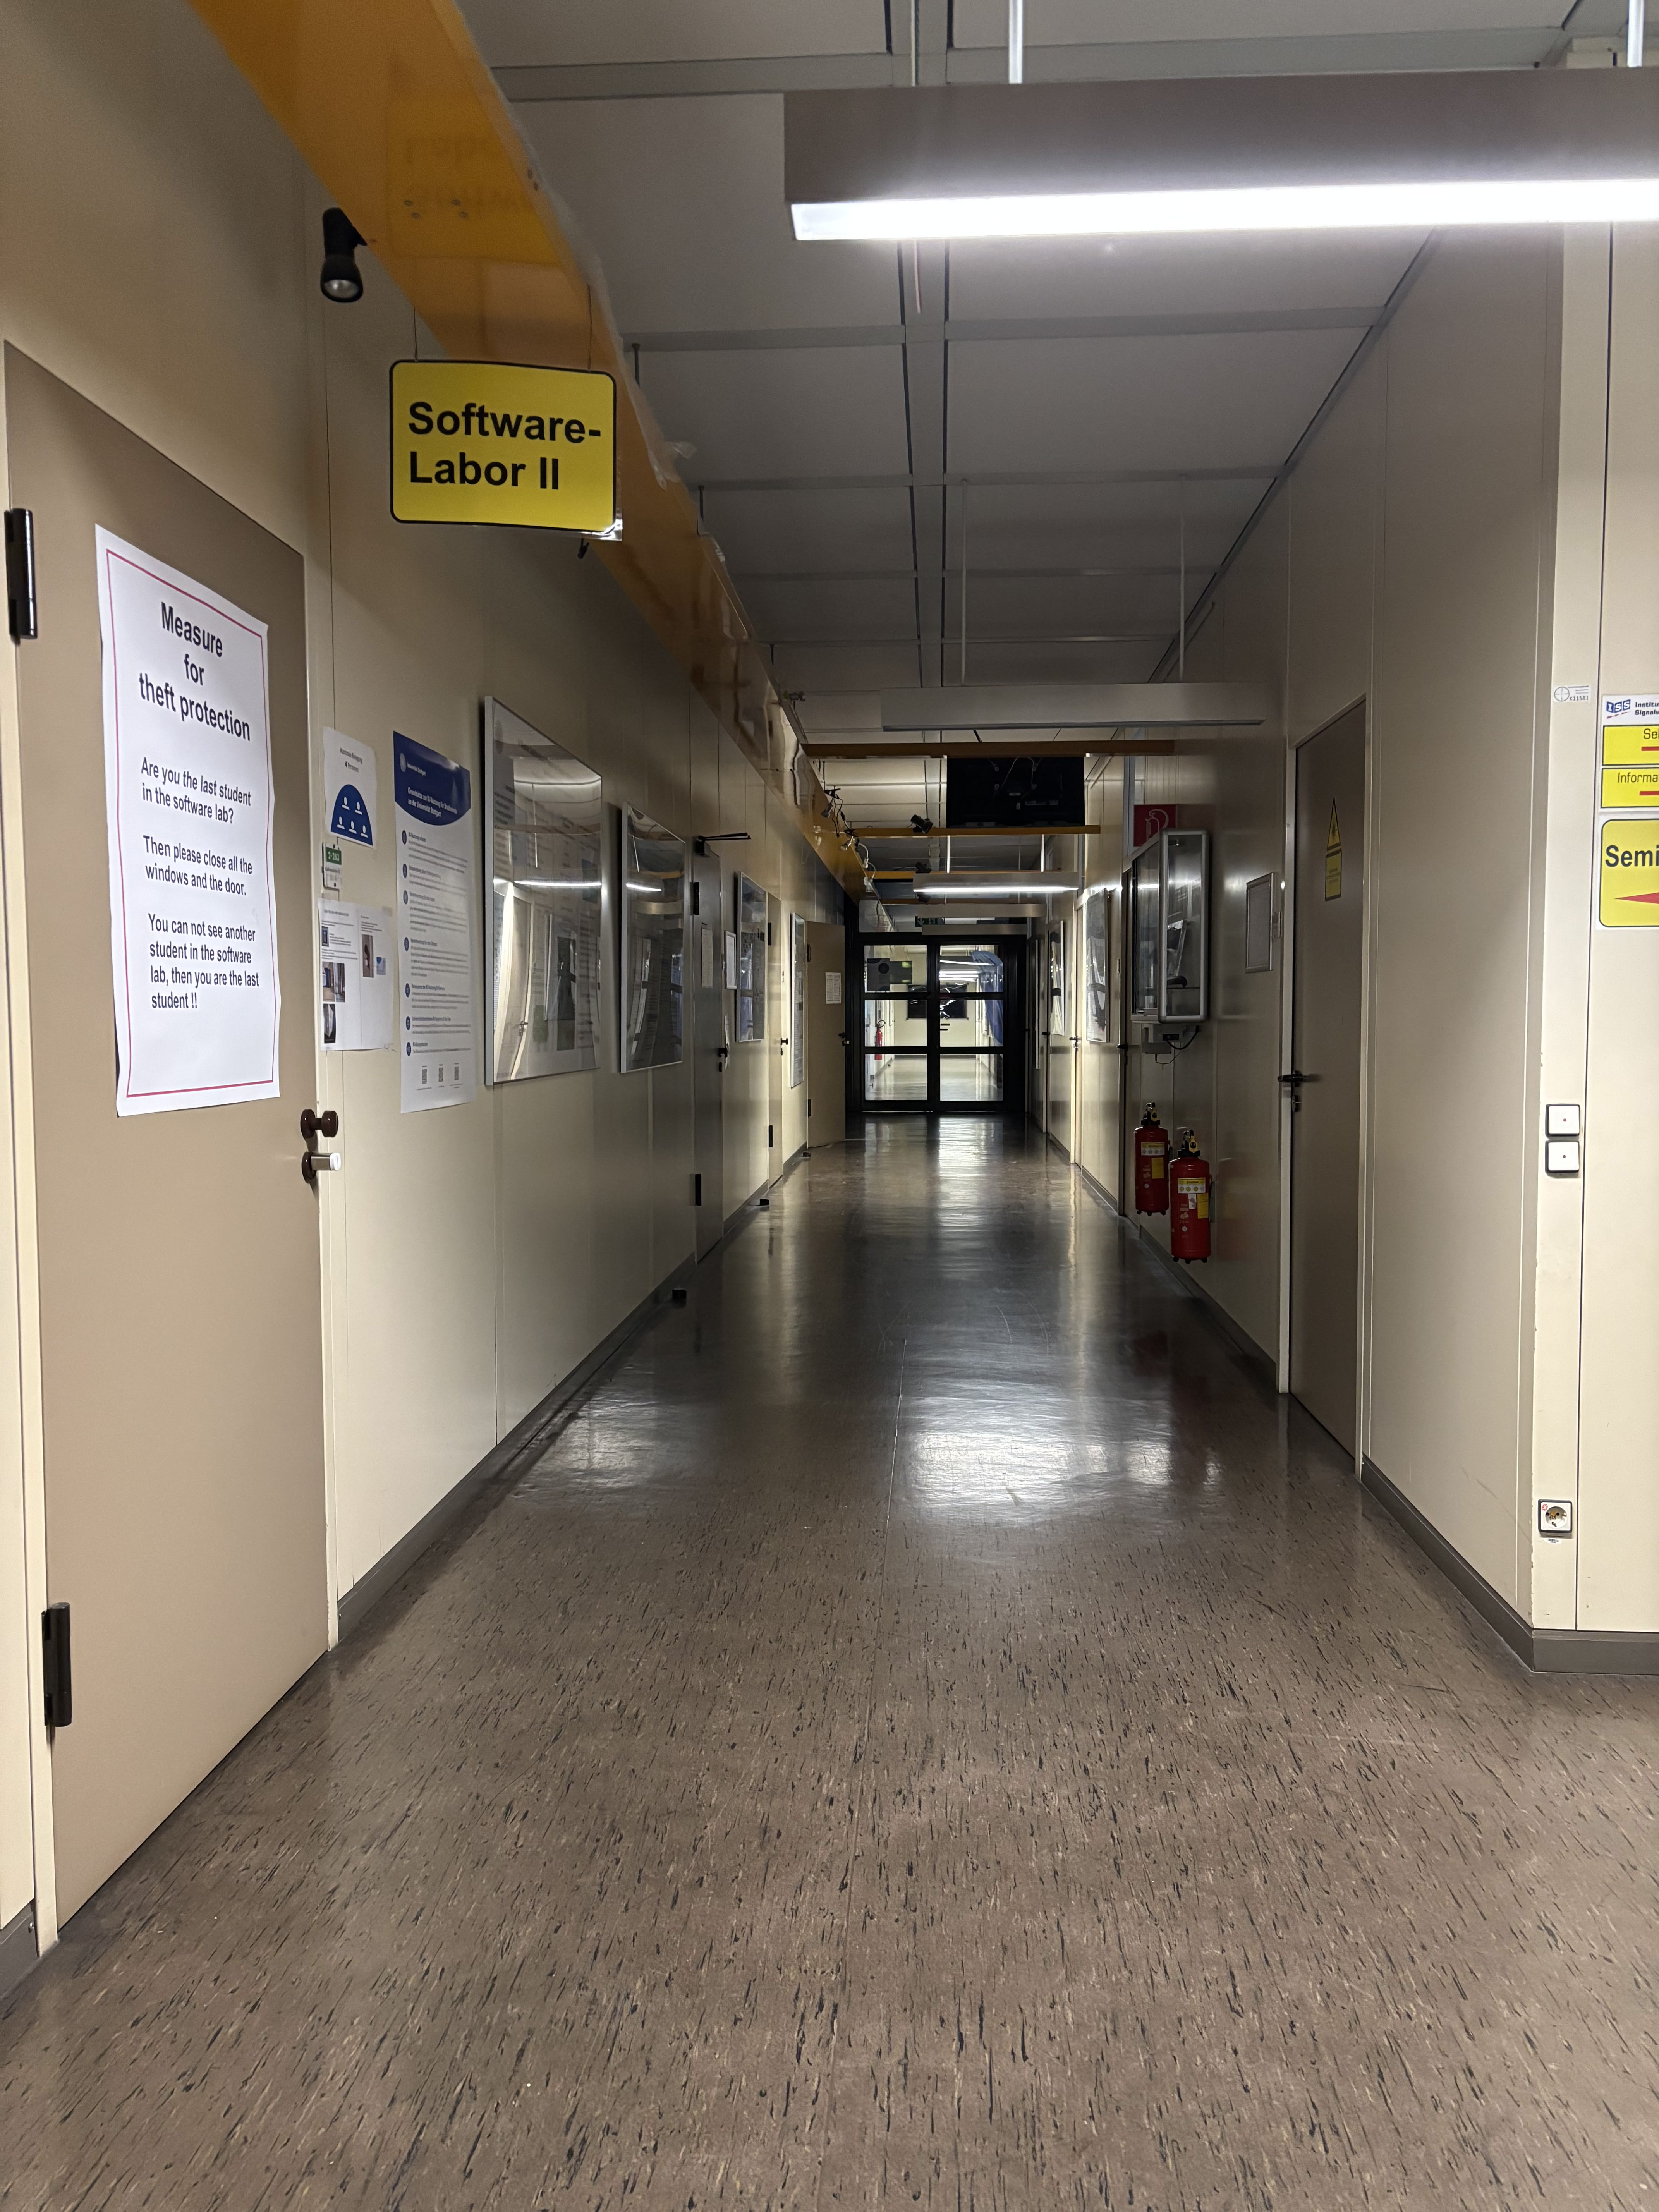door: (5, 341, 338, 1942), (1279, 690, 1373, 1477), (856, 937, 1014, 1108), (692, 833, 723, 1271)
handle: (261, 1094, 336, 1177), (1279, 1062, 1314, 1106)
